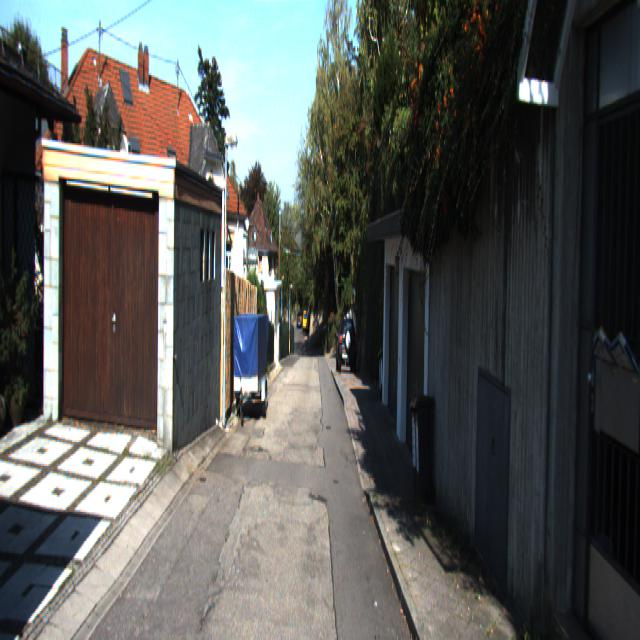Car: (233, 311, 268, 425), (336, 316, 358, 375)
